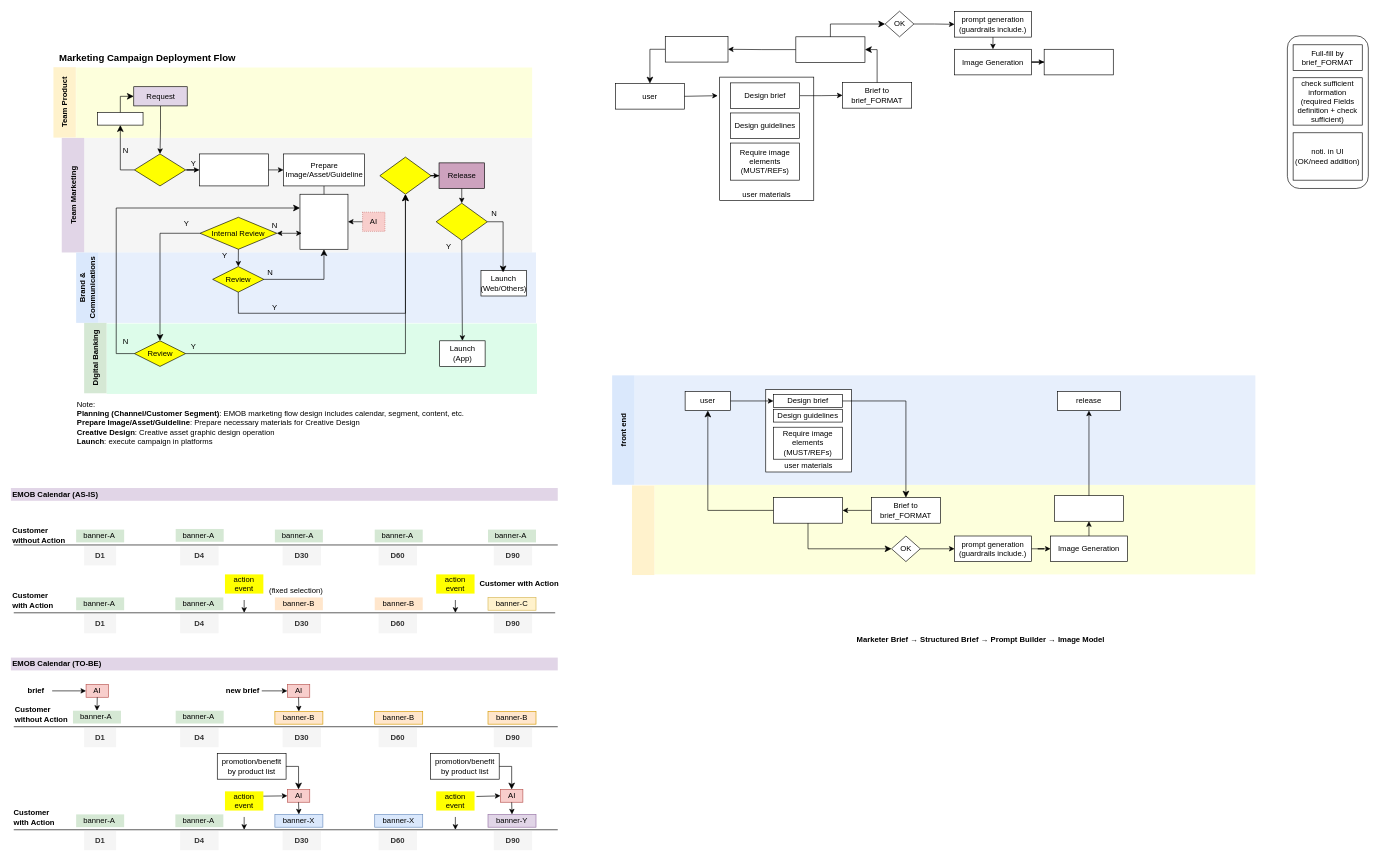
Image size: 1380x861. Some labels were removed from this diagram. The centre of each missing label's shape, as x and y in pixels:
2 Review Pass: the point at 405,175
backend: the point at 643,530
banner: the point at 1078,62
banners: the point at 1089,508
brief content Validation: the point at 830,49
brief content Validation + noti.: the point at 808,510
clear request?: the point at 160,169
Creative Design: the point at 323,221
Discussion: the point at 120,118
in App?: the point at 461,221
Planning (Channel/Customer Segment): the point at 233,169
user noti.: the point at 696,49
